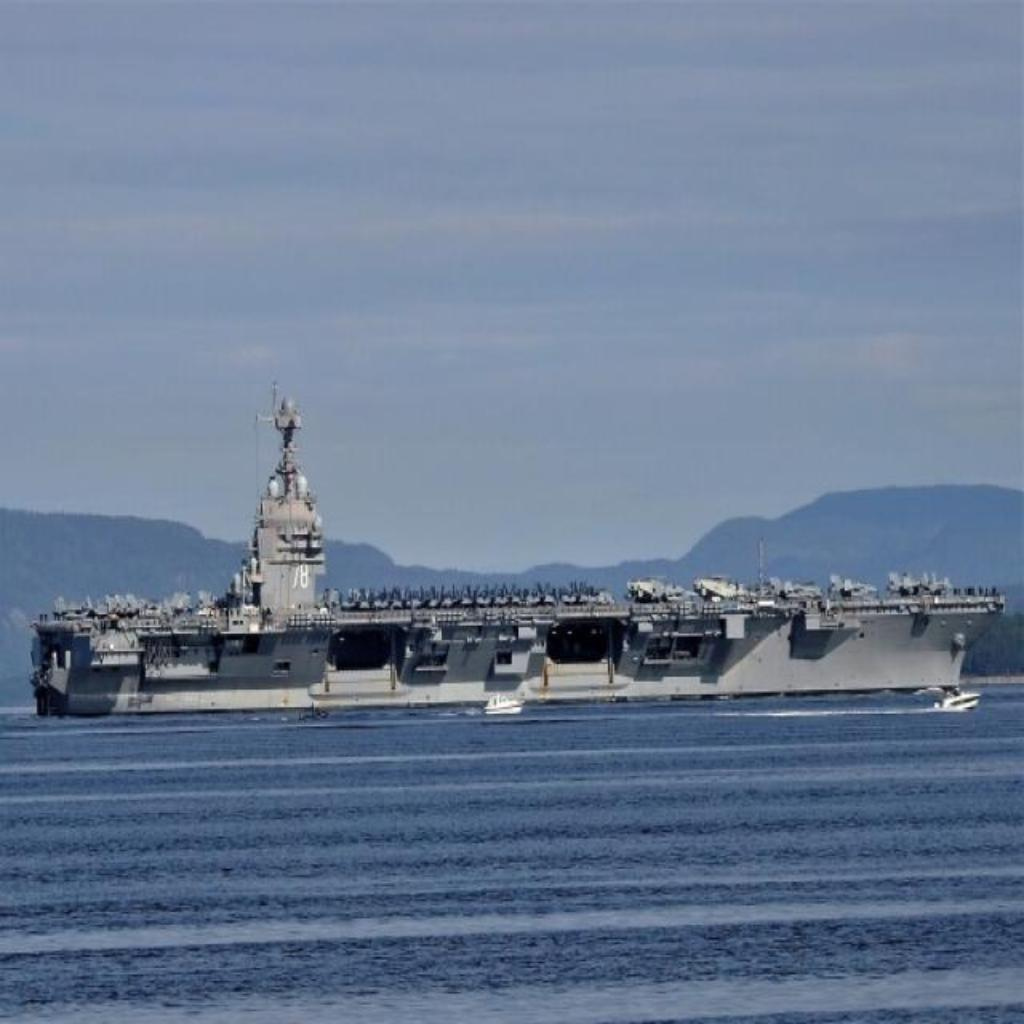Warship: (30, 374, 1010, 720)
